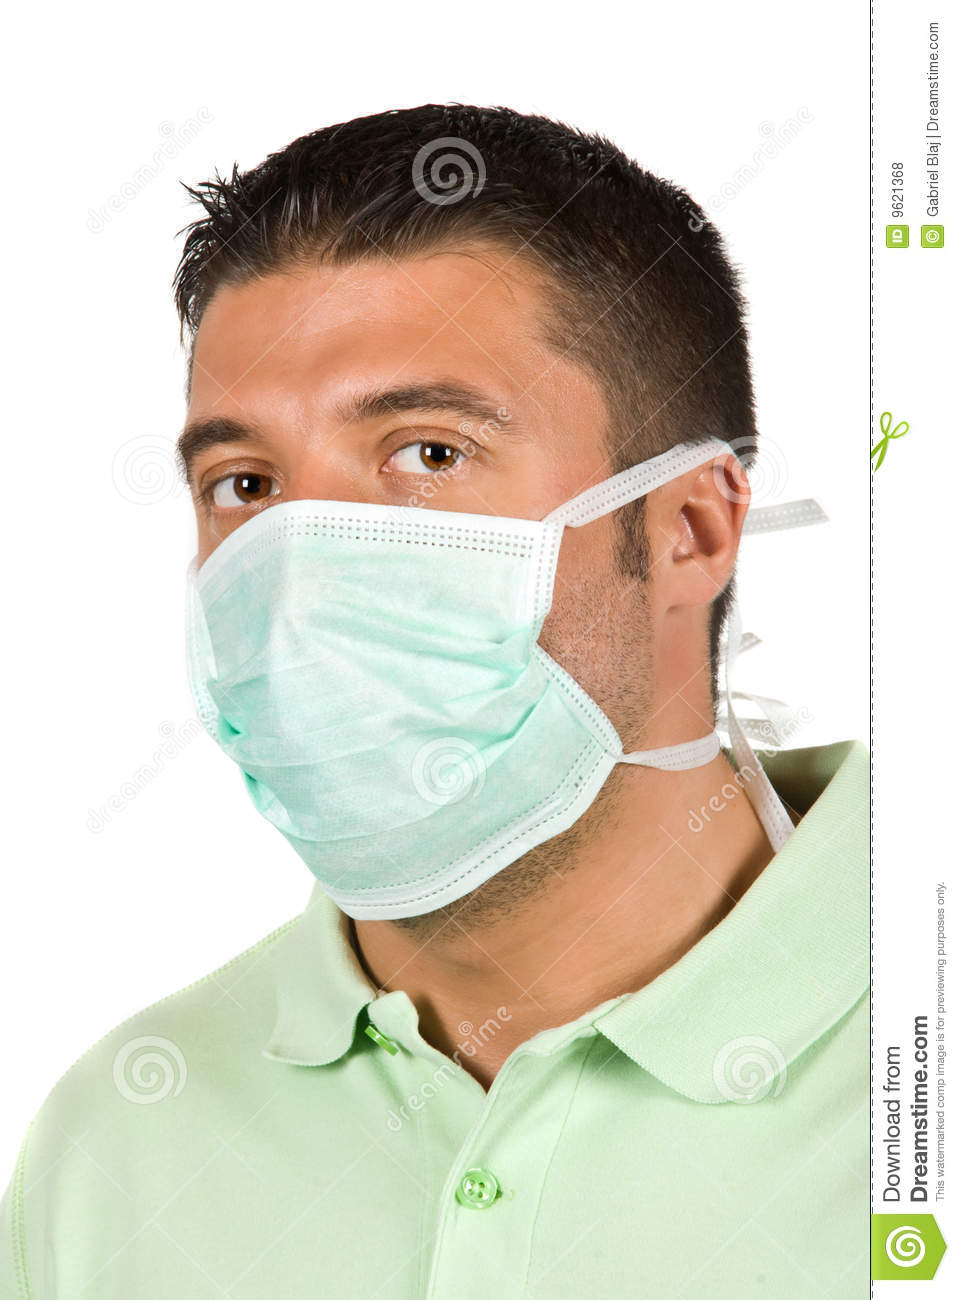mask: (174, 494, 628, 922)
